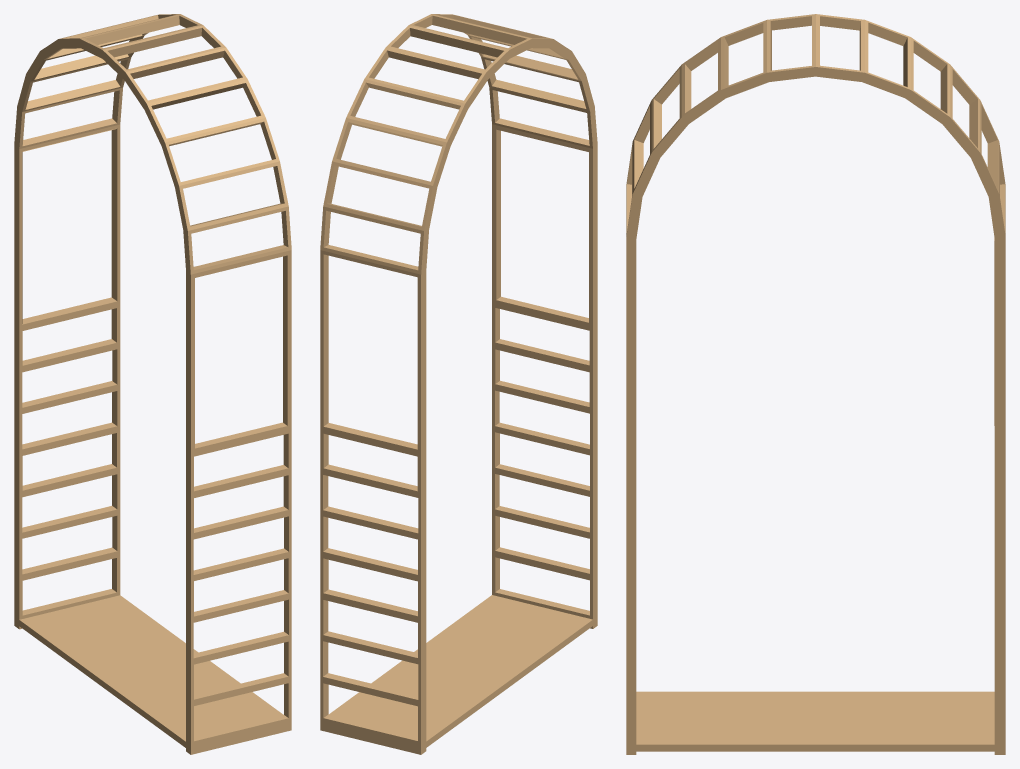
Rendered from Arch.dae.
3 renders of one model, left to right at view 1: azimuth 30°, elevation 25°; view 2: azimuth 150°, elevation 25°; view 3: azimuth 270°, elevation 25°, orthographic. The views are drawn at different scales.
Parts seen in each view (by area): view 1: SketchUp (×26); view 2: SketchUp (×25); view 3: SketchUp (×9).
Boxes of the visible parts, left/top/right/bottom form: SketchUp (×26): left=14, top=14, right=291, bottom=754; SketchUp (×25): left=320, top=14, right=597, bottom=754; SketchUp (×9): left=626, top=14, right=1005, bottom=754.
Size of the model in its own units: 12.99 by 39.37 by 78.74.
